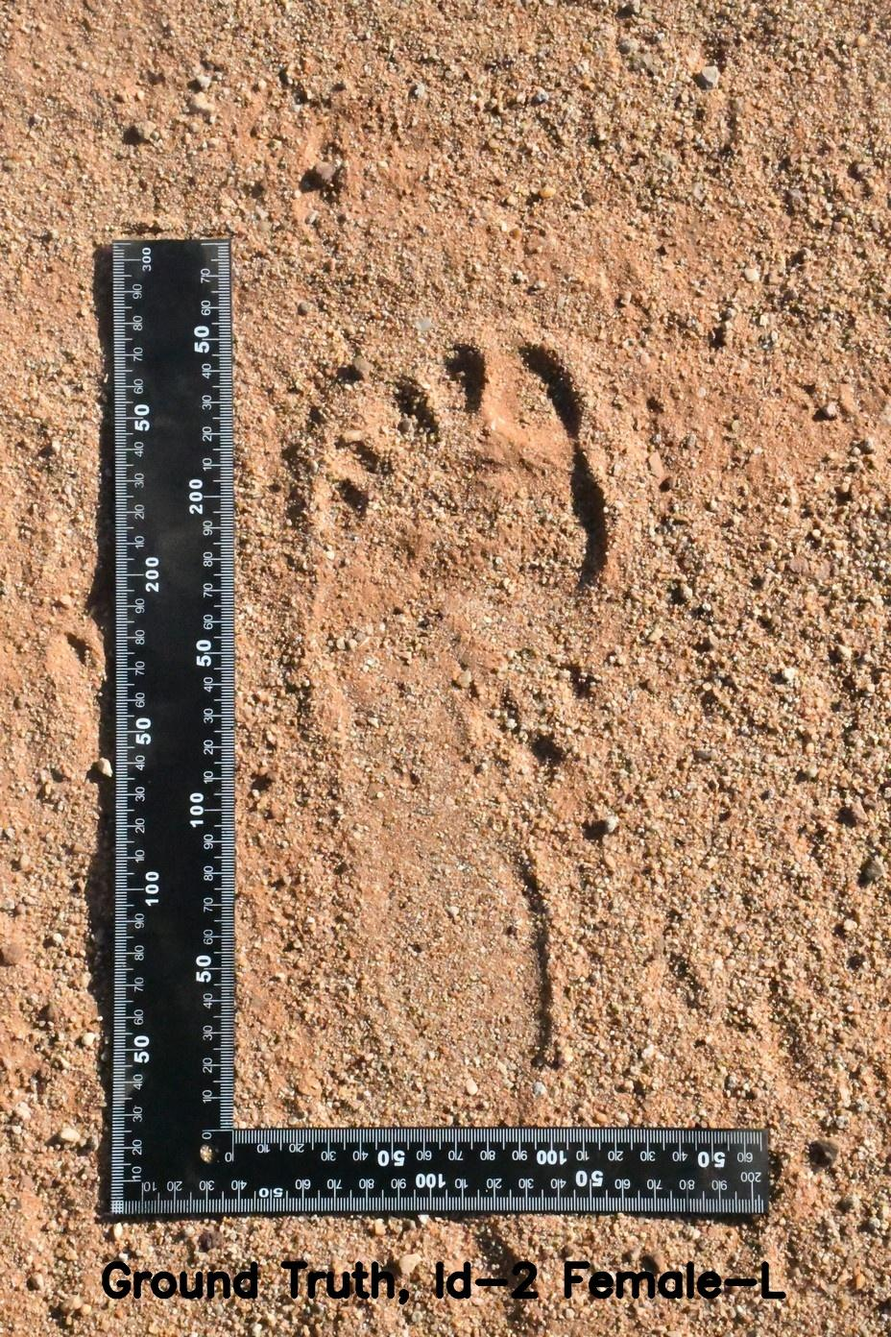human_foot_print: (269, 298, 666, 1117)
